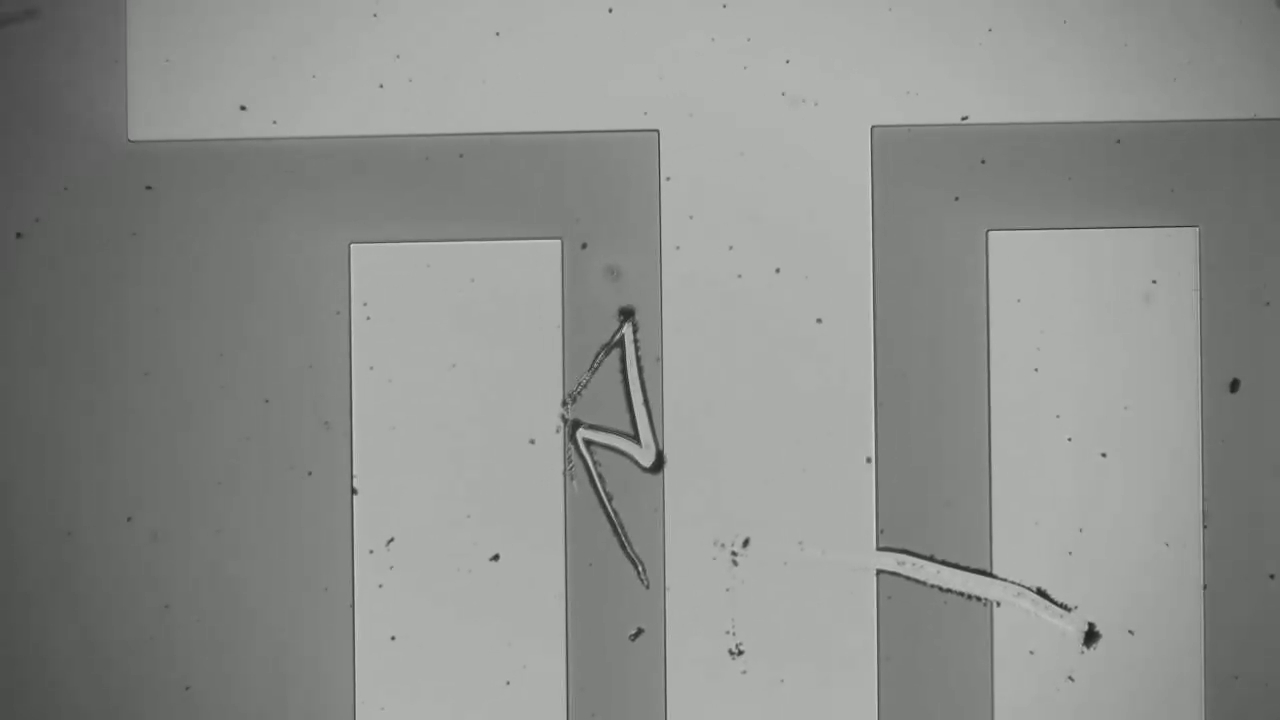Short_circuit: (849, 516, 1030, 634), (540, 414, 693, 486)
